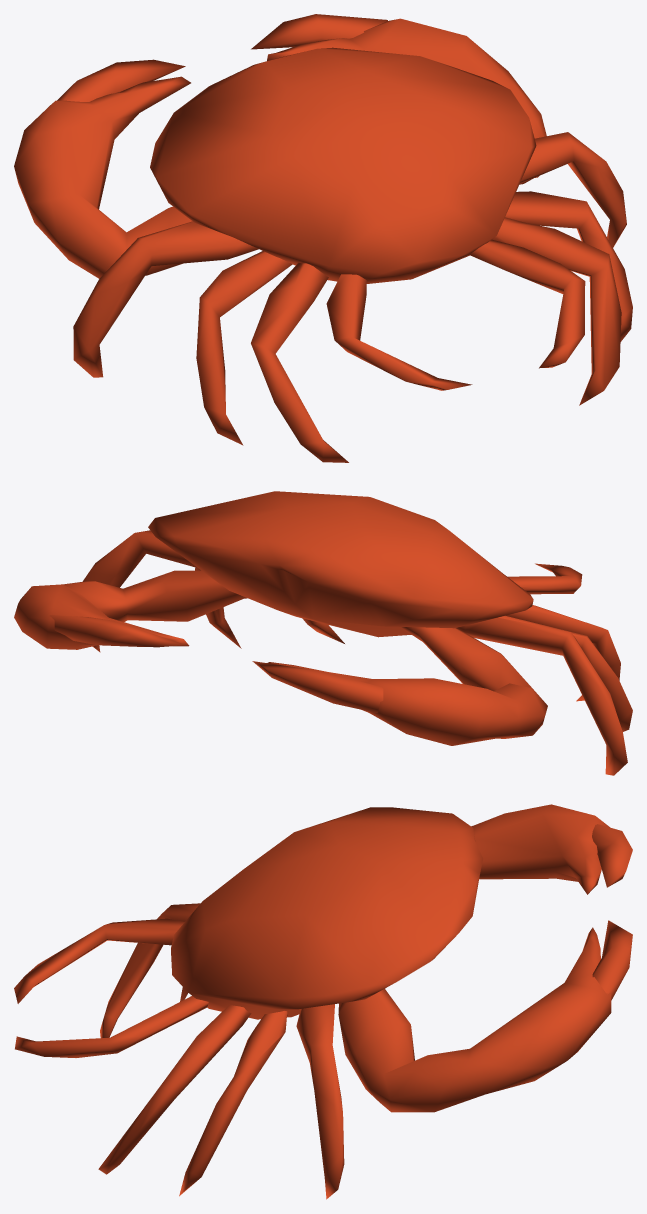
The model's file is crab.dae.
The picture shows the model from 3 angles, top to bottom: view 1: azimuth 30°, elevation 25°; view 2: azimuth 150°, elevation 25°; view 3: azimuth 270°, elevation 25°; orthographic projection. The views are drawn at different scales.
Visible parts, largest first — view 1: Crabs_Crab_014; view 2: Crabs_Crab_014; view 3: Crabs_Crab_014.
Part boxes in pixels (<box>): Crabs_Crab_014: <box>14,14,632,462</box>; Crabs_Crab_014: <box>14,491,632,775</box>; Crabs_Crab_014: <box>14,804,632,1199</box>.
Bounding box in the file's own units: 0.2981 × 0.2776 × 0.1313.
